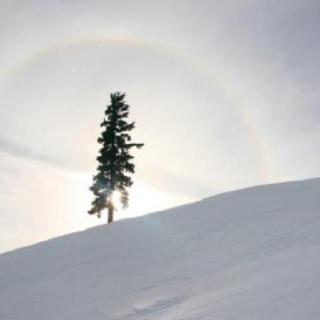Cirrostratus: (0, 0, 320, 192)
